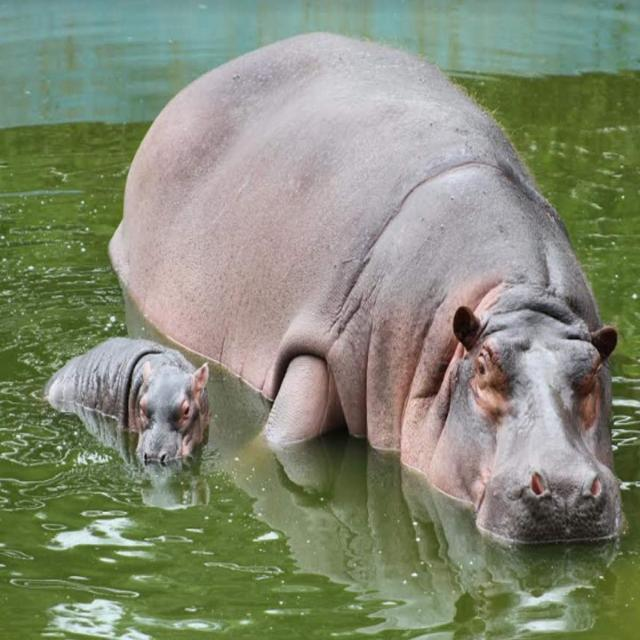Hippopotamus: (115, 17, 640, 541), (47, 330, 207, 476)
